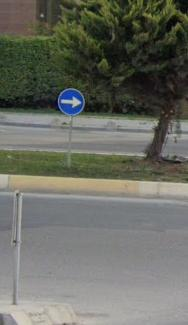turnright: (59, 87, 84, 116)
